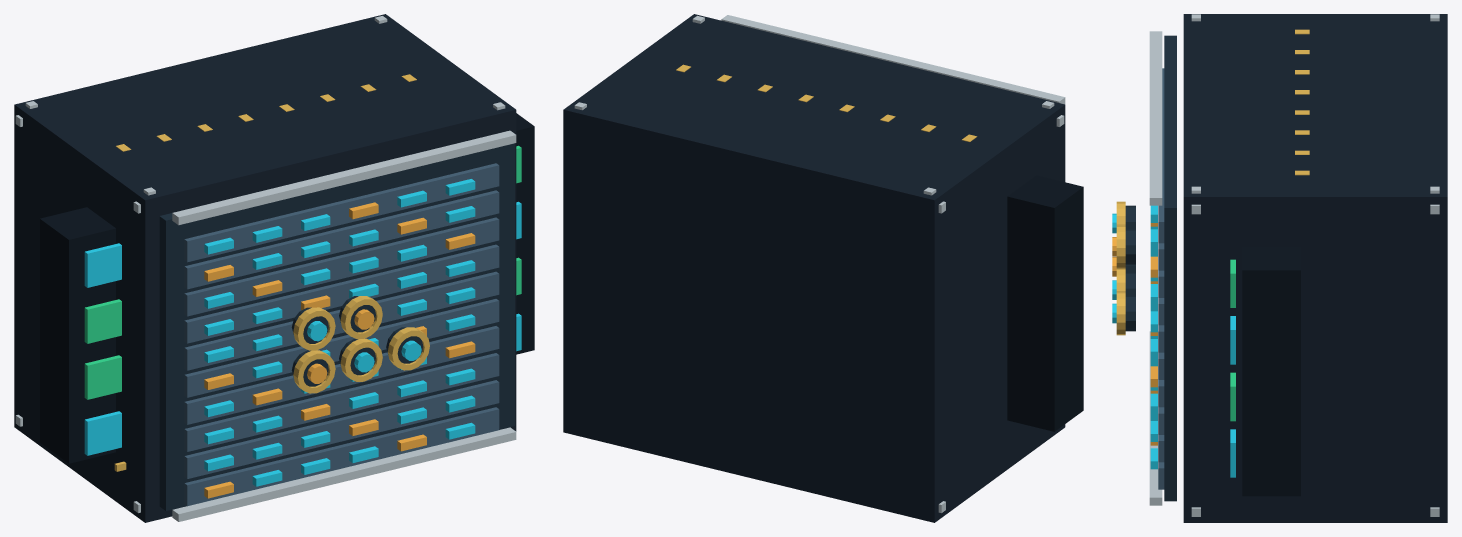
The model's file is 56_L81_CriticalECCFeedbackSupervisor.fbx.
3 views of the same model, side by side, from view 1: azimuth 30°, elevation 25°; view 2: azimuth 150°, elevation 25°; view 3: azimuth 270°, elevation 25° (orthographic).
Visible parts, largest first — view 1: CriticalECCFeedbackSupervisor, CriticalECCFeedbackSupervisor_Part_0090, CriticalECCFeedbackSupervisor_Part_0099, CriticalECCFeedbackSupervisor_Part_0091, CriticalECCFeedbackSupervisor_Part_0107, CriticalECCFeedbackSupervisor_Part_0115; view 2: CriticalECCFeedbackSupervisor, CriticalECCFeedbackSupervisor_Part_0090; view 3: CriticalECCFeedbackSupervisor, CriticalECCFeedbackSupervisor_Part_0090.
Part boxes in pixels (x1=…): CriticalECCFeedbackSupervisor: x1=14, y1=14, x2=516, y2=522; CriticalECCFeedbackSupervisor_Part_0090: x1=40, y1=113, x2=534, y2=463; CriticalECCFeedbackSupervisor_Part_0099: x1=84, y1=355, x2=121, y2=399; CriticalECCFeedbackSupervisor_Part_0091: x1=84, y1=411, x2=121, y2=455; CriticalECCFeedbackSupervisor_Part_0107: x1=84, y1=299, x2=121, y2=343; CriticalECCFeedbackSupervisor_Part_0115: x1=84, y1=243, x2=121, y2=287; CriticalECCFeedbackSupervisor: x1=563, y1=14, x2=1065, y2=522; CriticalECCFeedbackSupervisor_Part_0090: x1=1007, y1=175, x2=1083, y2=431; CriticalECCFeedbackSupervisor: x1=1112, y1=14, x2=1447, y2=522; CriticalECCFeedbackSupervisor_Part_0090: x1=1242, y1=247, x2=1300, y2=496.
Size of the model in its own units: 148 by 99.8 by 91.45.
